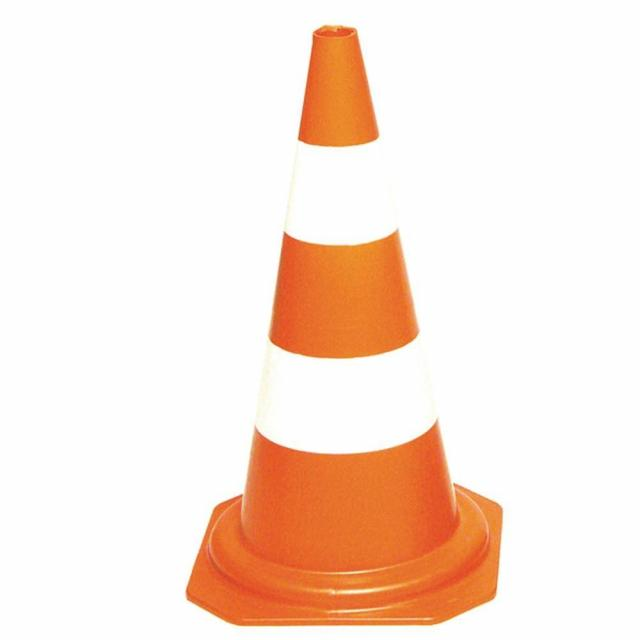cone: (217, 16, 492, 618)
